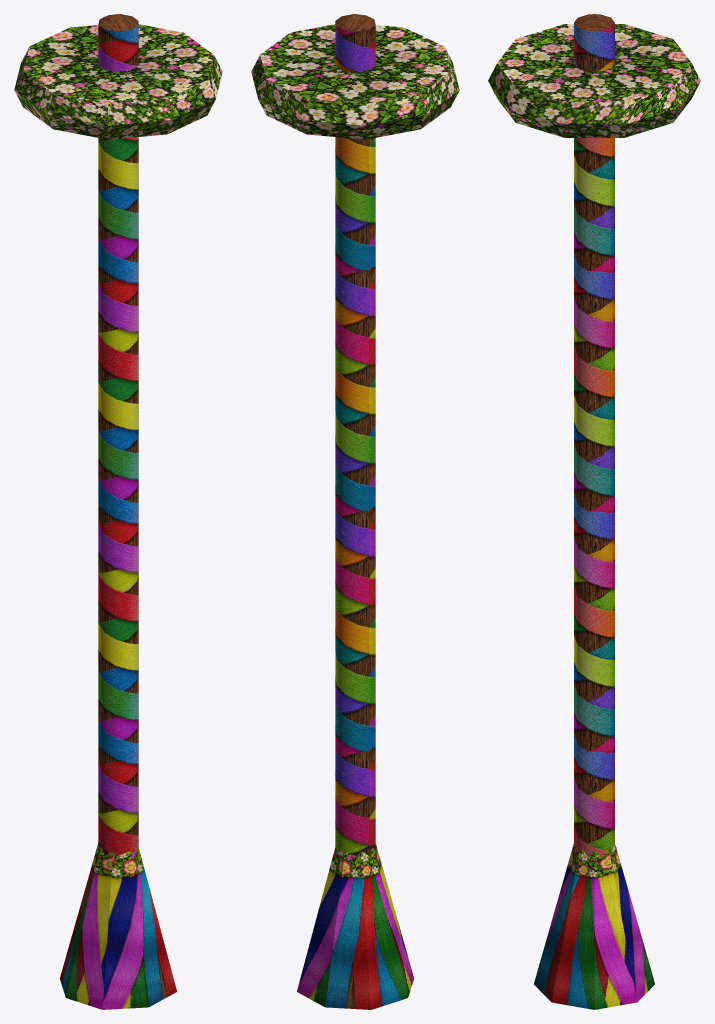
Rendered from mm9_deco_maypole.glb.
3 views of the same model, side by side, from view 1: azimuth 30°, elevation 25°; view 2: azimuth 150°, elevation 25°; view 3: azimuth 270°, elevation 25° (orthographic).
Parts seen in each view (by area): view 1: Maypole; view 2: Maypole; view 3: Maypole.
Part boxes in pixels (bbox=[...]): Maypole: bbox=[14, 14, 222, 1009]; Maypole: bbox=[251, 14, 459, 1009]; Maypole: bbox=[488, 14, 700, 1009].
Size of the model in its own units: 1.08 by 5.7 by 1.13.
Materials: 1 (1 with a texture image).
